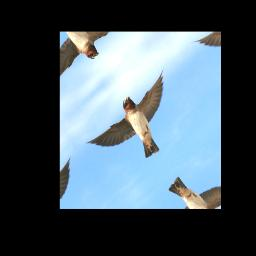Swallow: (81, 64, 199, 189)
